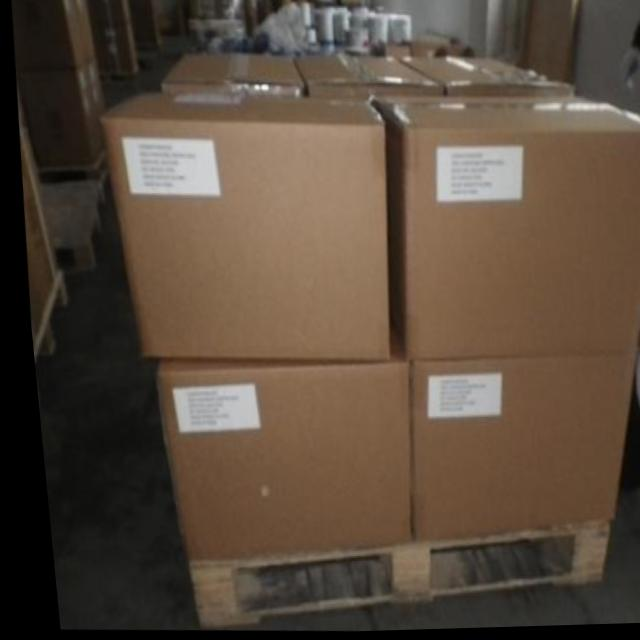box: (96, 89, 382, 363), (364, 98, 640, 361), (147, 323, 403, 564), (402, 355, 628, 542), (393, 57, 573, 99), (290, 55, 443, 99), (157, 55, 303, 96)
